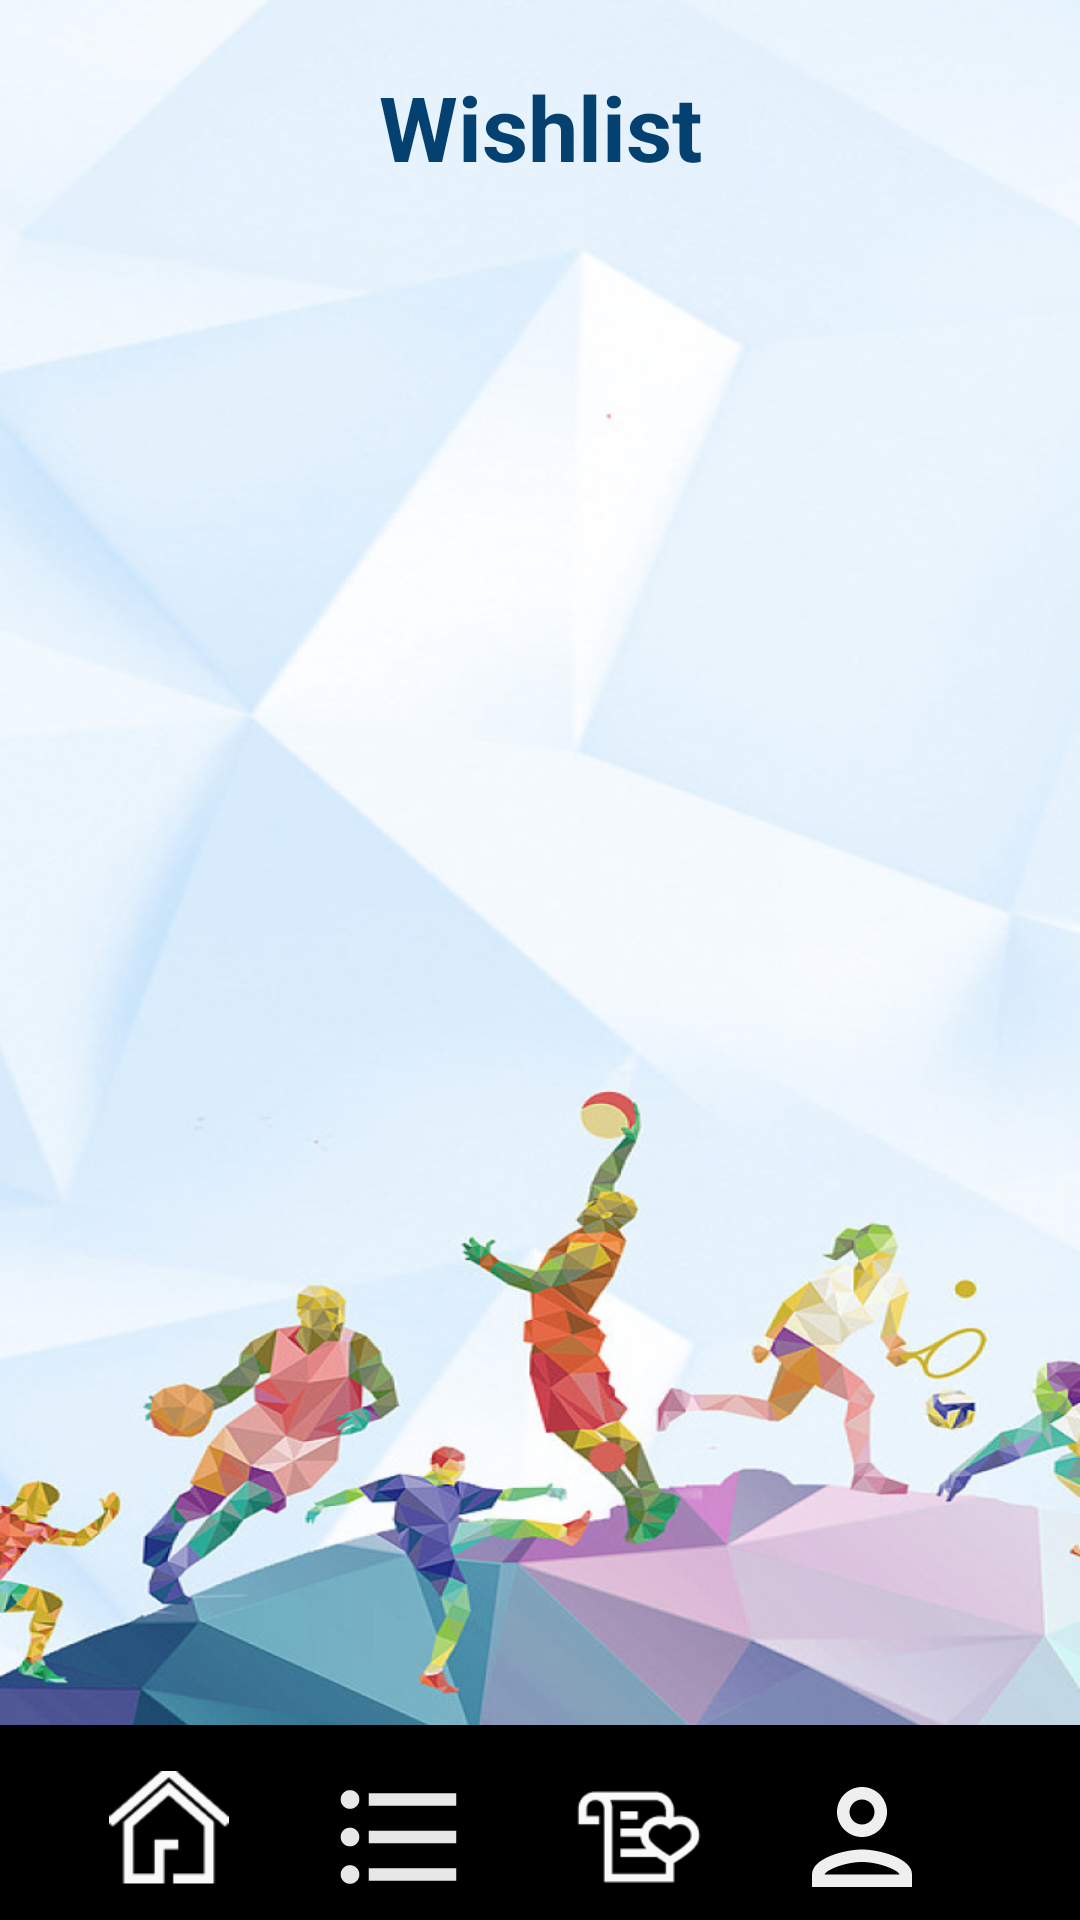

Icons on this 1080*1920 Android screen, each with the point to tap as point (x, y):
format list bulleted: point (398, 1837)
home: point (169, 1827)
person: point (862, 1837)
wishlist: point (638, 1837)
